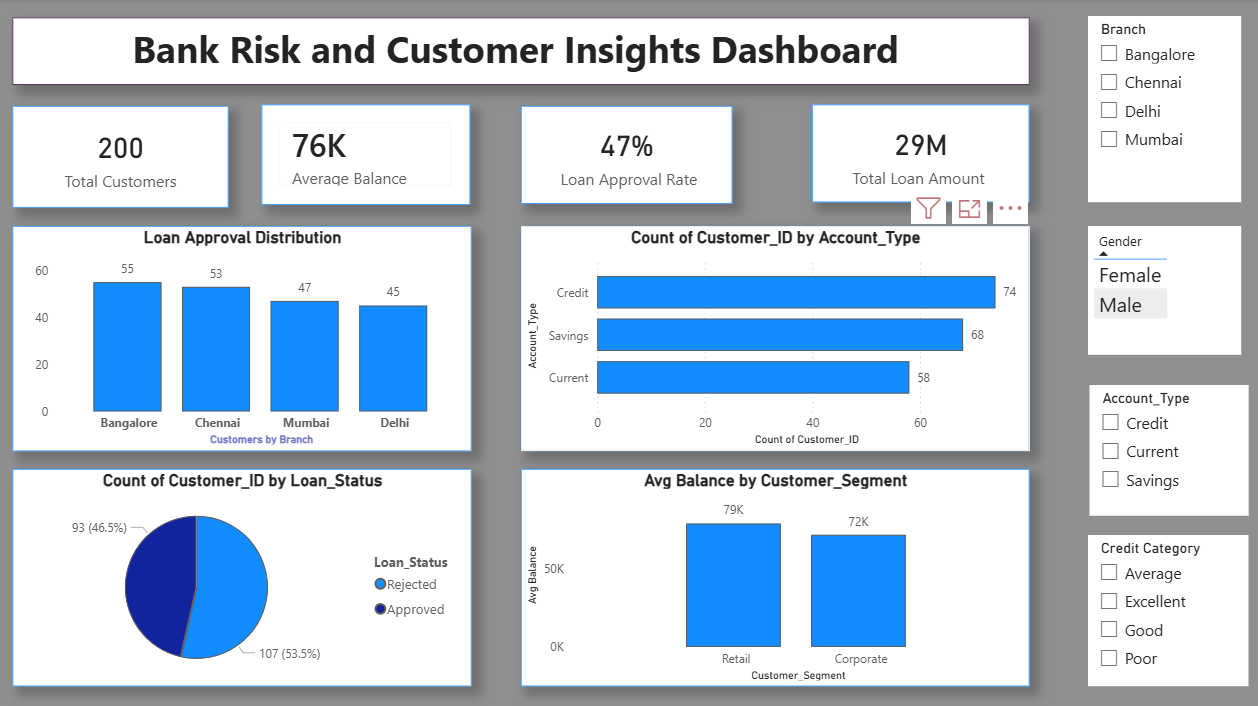

Layout of this report page (visuals, bound fields, positions):
{"tool":"powerbi","page":{"name":"Page 1","canvas":[1280,720],"ordinal":0},"visuals":[{"type":"card","fields":{"Values":["bank_dashboard_dataset.Total Customers"]},"box":[19.7,109,218,103],"z":0},{"type":"cardVisual","fields":{"Data":["bank_dashboard_dataset.Avg Balance"]},"box":[271,107.5,210.5,101.5],"z":1000},{"type":"card","fields":{"Values":["bank_dashboard_dataset.Approval Rate"]},"box":[533,109,213.5,98.4],"z":2000},{"type":"card","fields":{"Values":["Sum(bank_dashboard_dataset.Loan_Amount)"]},"box":[826.8,107.5,219.6,98.4],"z":3000},{"type":"clusteredColumnChart","title":"Loan Approval Distribution","fields":{"Category":["bank_dashboard_dataset.Branch"],"Y":["CountNonNull(bank_dashboard_dataset.Customer_ID)"]},"box":[19.7,230.2,463.3,227.1],"z":4000},{"type":"pieChart","fields":{"Category":["bank_dashboard_dataset.Loan_Status"],"Y":["CountNonNull(bank_dashboard_dataset.Customer_ID)"]},"box":[19.7,475.5,463.3,219.6],"z":5000},{"type":"slicer","fields":{"Values":["bank_dashboard_dataset.Branch"]},"box":[1105.4,18.2,154.4,187.8],"z":6000},{"type":"slicer","fields":{"Values":["bank_dashboard_dataset.Account_Type"]},"box":[1106.9,390.7,160.5,131.7],"z":7000},{"type":"tableEx","fields":{"Values":["bank_dashboard_dataset.Gender"]},"box":[1105.4,230.2,154.4,130.2],"z":8000},{"type":"slicer","fields":{"Values":["bank_dashboard_dataset.Credit Category"]},"box":[1105.4,542.1,162,152.9],"z":9000},{"type":"barChart","fields":{"Category":["bank_dashboard_dataset.Account_Type"],"Y":["CountNonNull(bank_dashboard_dataset.Customer_ID)"]},"box":[533,230.2,513.3,227.1],"z":10000},{"type":"columnChart","fields":{"Category":["bank_dashboard_dataset.Customer_Segment"],"Y":["bank_dashboard_dataset.Avg Balance"]},"box":[533,475.5,513.3,219.6],"z":11000},{"type":"textbox","box":[19.7,19.7,1026.6,68.1],"z":12000}]}

Visuals, with their boxes in screenshot pixels (x1, y1, x2, y2), scaled from the page's 1280x720 canvas onto the 1258x706 screenshot:
card - bank_dashboard_dataset.Total Customers: detection(19, 107, 234, 208)
cardVisual - bank_dashboard_dataset.Avg Balance: detection(266, 105, 473, 205)
card - bank_dashboard_dataset.Approval Rate: detection(524, 107, 734, 203)
card - Sum(bank_dashboard_dataset.Loan_Amount): detection(813, 105, 1028, 202)
"Loan Approval Distribution" clusteredColumnChart: detection(19, 226, 475, 448)
pieChart - bank_dashboard_dataset.Loan_Status x CountNonNull(bank_dashboard_dataset.Customer_ID): detection(19, 466, 475, 682)
slicer - bank_dashboard_dataset.Branch: detection(1086, 18, 1238, 202)
slicer - bank_dashboard_dataset.Account_Type: detection(1088, 383, 1246, 512)
tableEx - bank_dashboard_dataset.Gender: detection(1086, 226, 1238, 353)
slicer - bank_dashboard_dataset.Credit Category: detection(1086, 532, 1246, 681)
barChart - bank_dashboard_dataset.Account_Type x CountNonNull(bank_dashboard_dataset.Customer_ID): detection(524, 226, 1028, 448)
columnChart - bank_dashboard_dataset.Customer_Segment x bank_dashboard_dataset.Avg Balance: detection(524, 466, 1028, 682)
textbox: detection(19, 19, 1028, 86)
